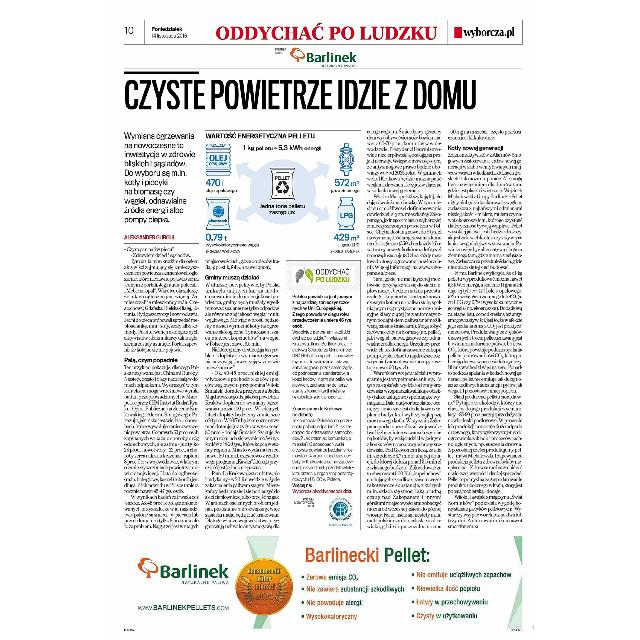article: (122, 70, 526, 532)
